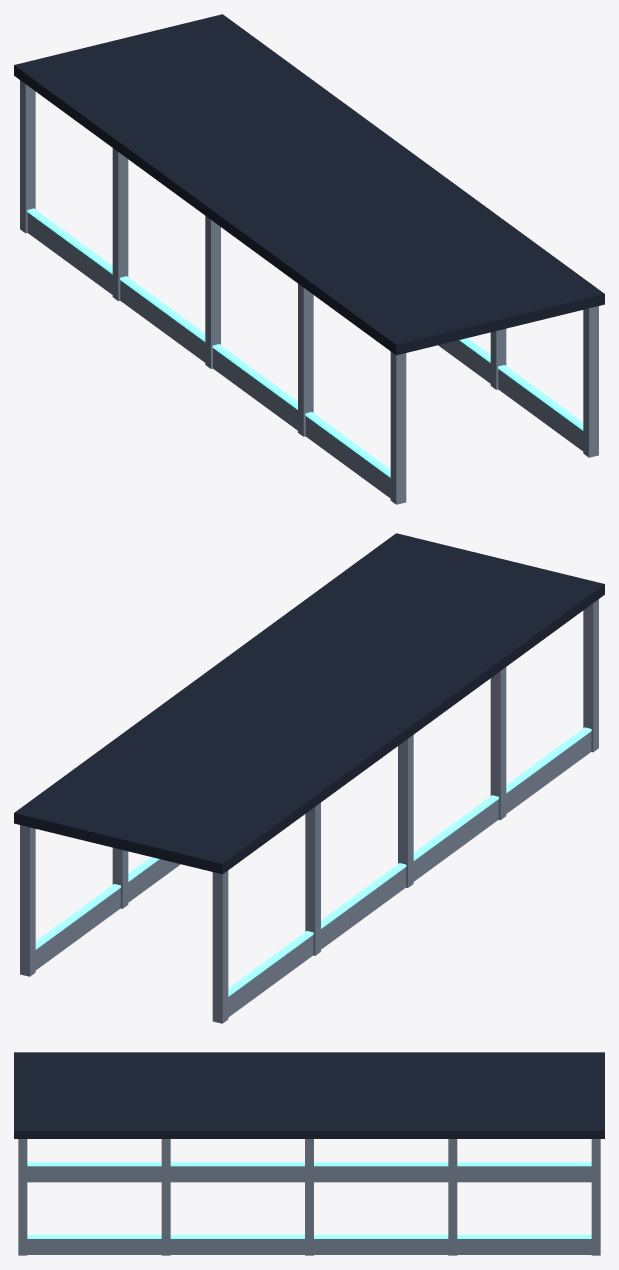
Rendered from lobby_hall.glb.
3 views of the same model, one above another, from view 1: azimuth 30°, elevation 25°; view 2: azimuth 150°, elevation 25°; view 3: azimuth 270°, elevation 25° (orthographic). The views are drawn at different scales.
Parts seen in each view (by area): view 1: LOD0; view 2: LOD0; view 3: LOD0.
Boxes of the visible parts, <box> form: LOD0: <box>14,14,604,504</box>; LOD0: <box>14,533,604,1023</box>; LOD0: <box>14,1052,604,1255</box>.
Size of what is drawn, in the model's own units: 10.4 by 7.75 by 33.
